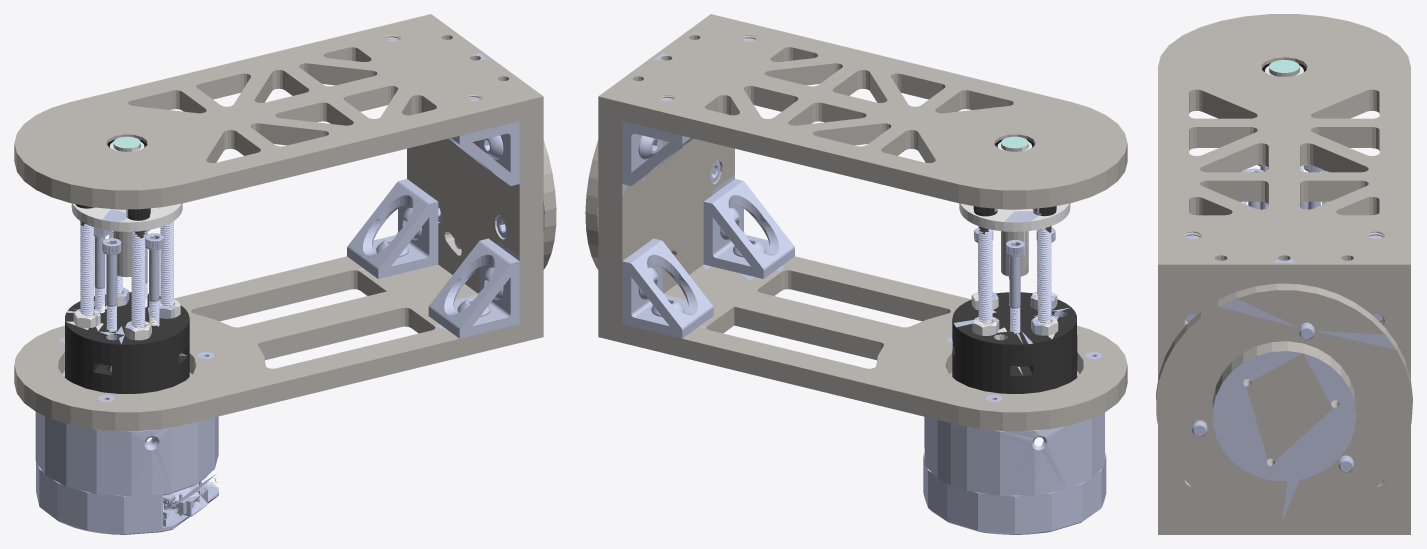
The model's file is Front Right Swerve.glb.
3 views of the same model, side by side, from view 1: azimuth 30°, elevation 25°; view 2: azimuth 150°, elevation 25°; view 3: azimuth 270°, elevation 25° (orthographic). The views are drawn at different scales.
Bounding box in the file's own units: 0.1623 × 0.1128 × 0.0659.
